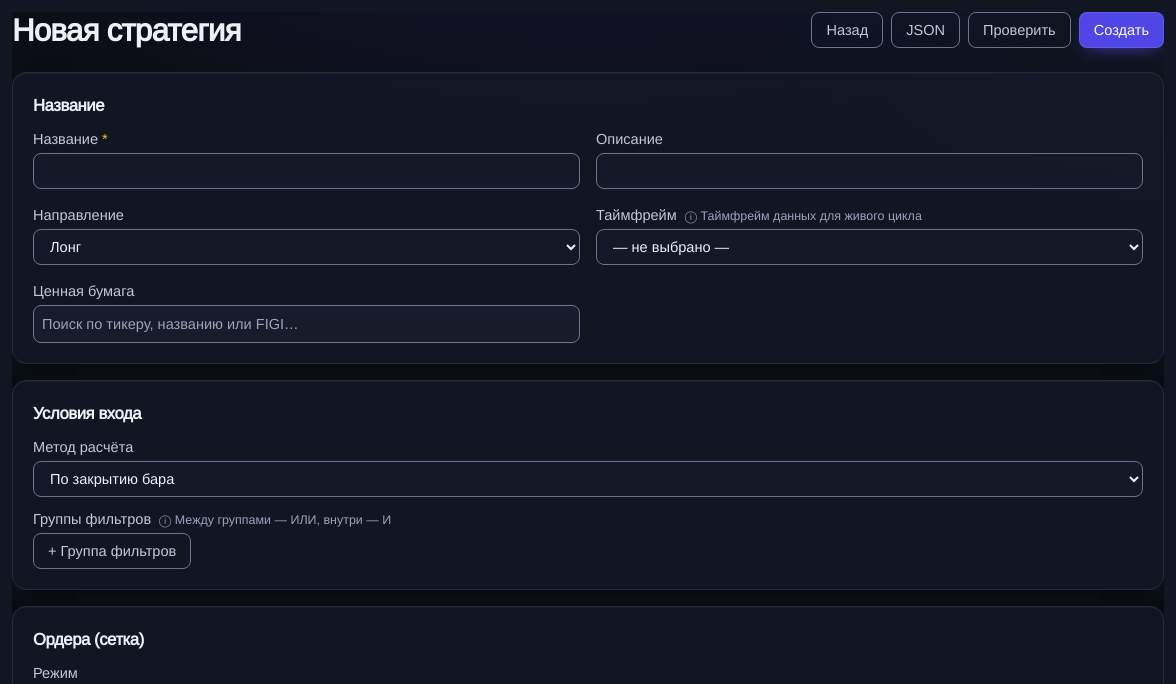
Test: MVP-7.4 U5/U6: кнопка «Проверить» › U5: шлёт голый конфиг (без обёртки { config }) и показывает вердикт live_deal
Expected: the heading "Новая стратегия" is shown, [12,12,241,48]
Click the button "Проверить" at (1019, 30), box [968,12,1071,48]
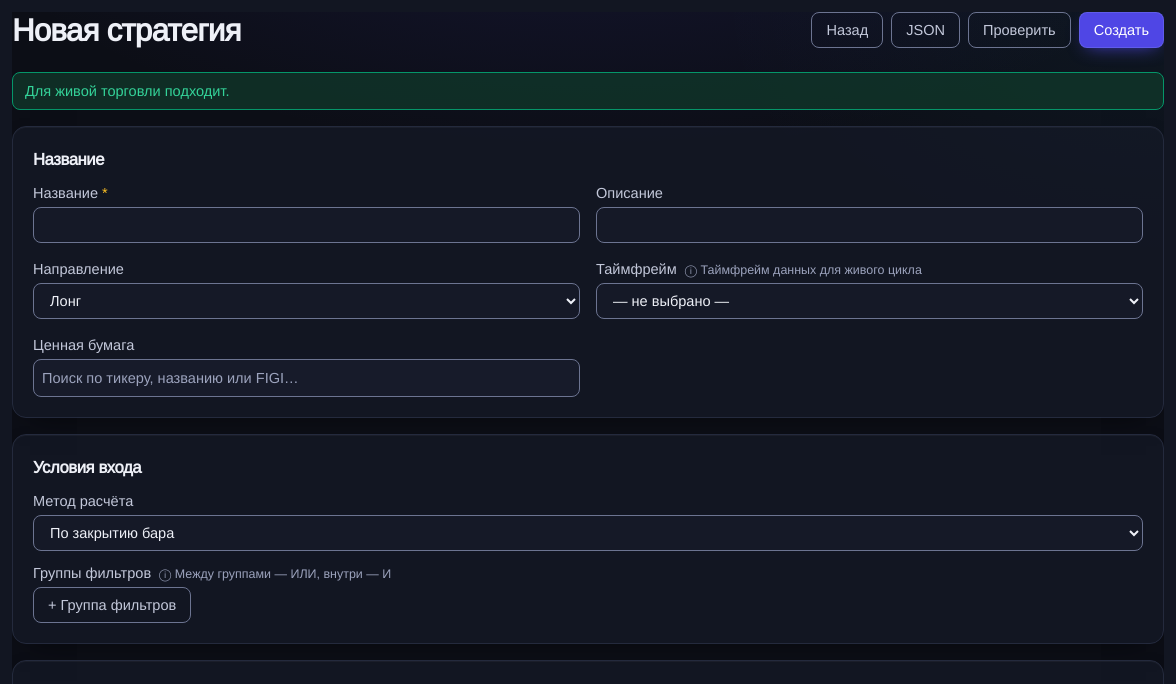
Expected: the text "Для живой торговли подходит." is shown, [12,72,1164,110]
